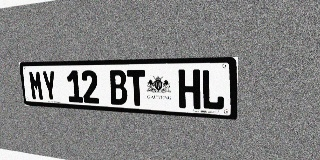1: (66, 70, 83, 103)
2: (81, 70, 99, 104)
B: (108, 70, 128, 105)
H: (178, 69, 200, 109)
L: (201, 69, 225, 111)
M: (28, 71, 44, 101)
T: (126, 70, 147, 106)
Y: (41, 70, 58, 101)
